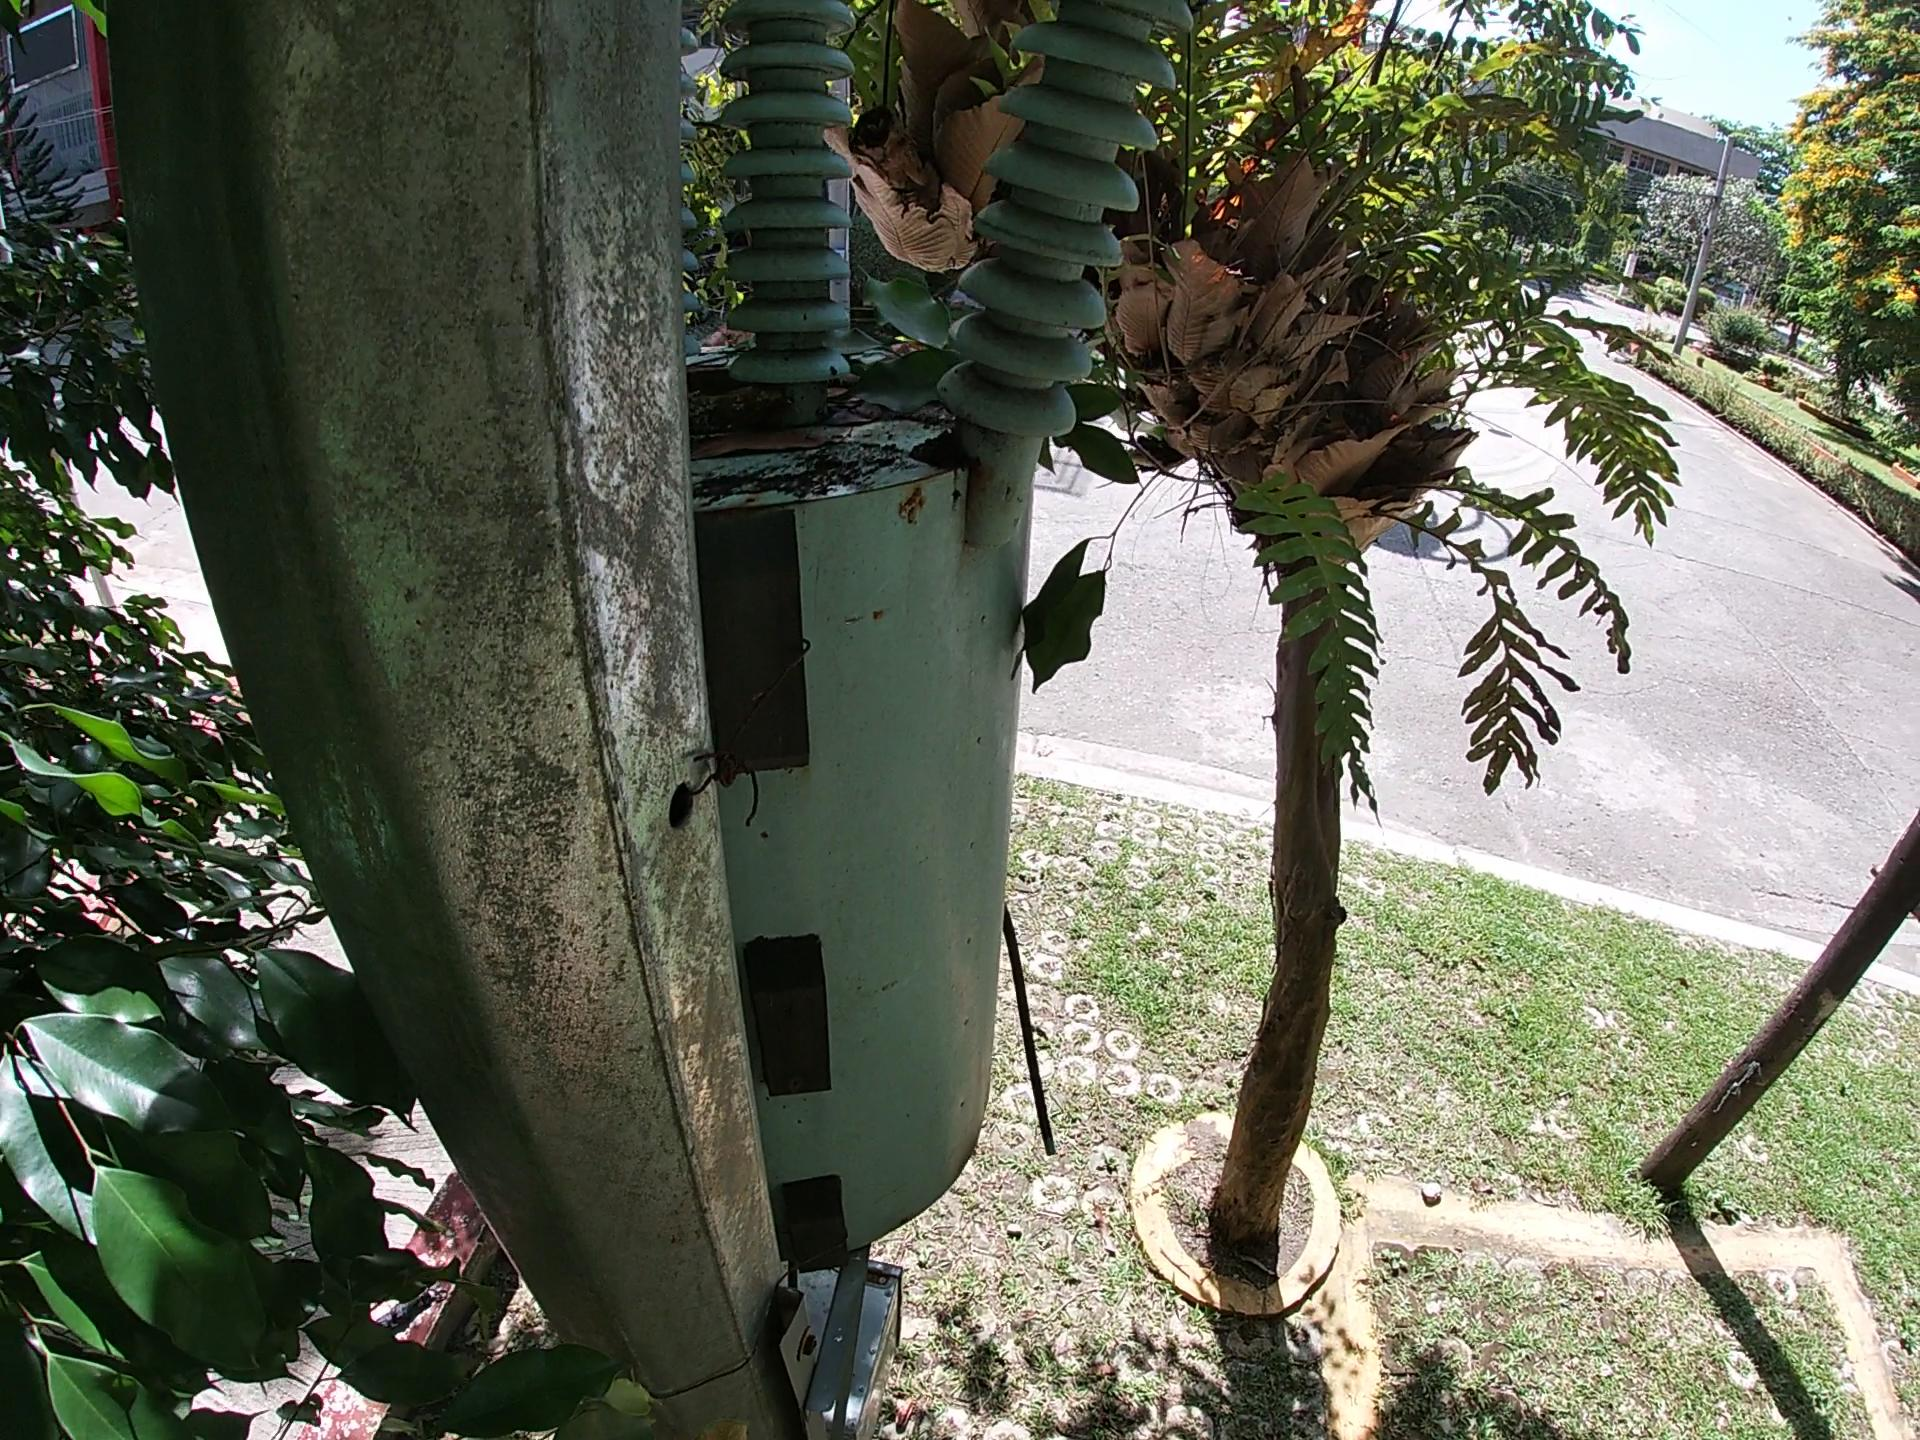branch with leaves: (1013, 250, 1226, 749)
leaf: (850, 256, 948, 425), (688, 427, 825, 463)
mahogany fruit: (680, 355, 742, 384)
tree branch: (679, 384, 816, 413)
